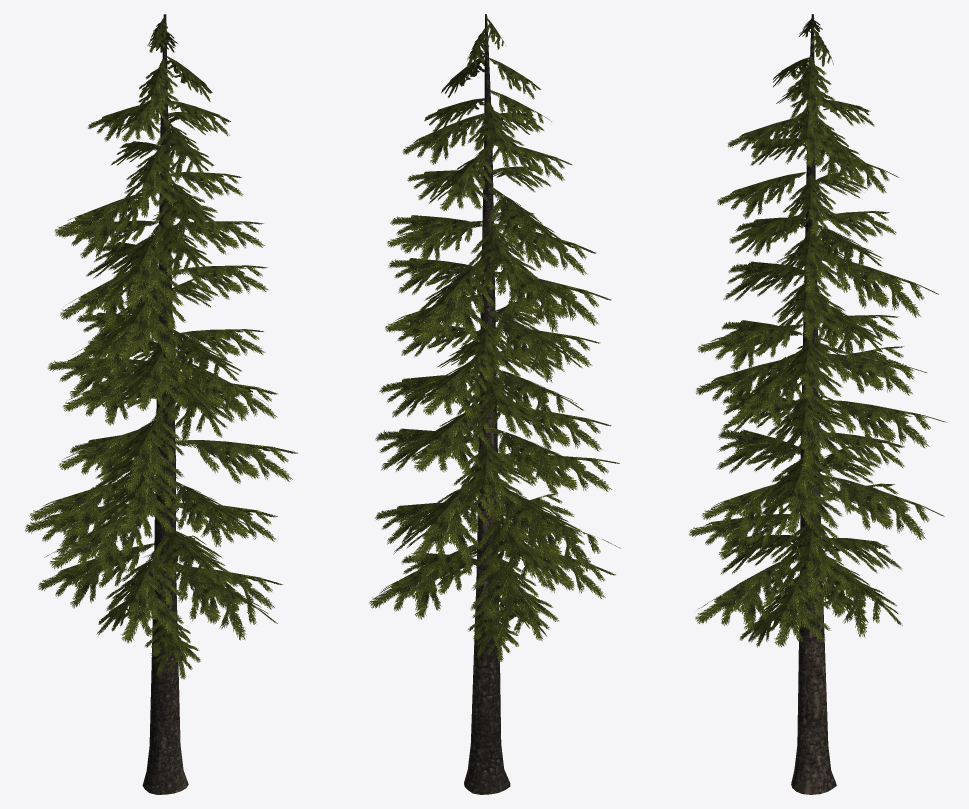
File: pine_tree_n_2.glb
3 views of the same model, side by side, from view 1: azimuth 30°, elevation 25°; view 2: azimuth 150°, elevation 25°; view 3: azimuth 270°, elevation 25° (orthographic).
Visible parts, largest first — view 1: pine_tree_n_2_branches, pine_tree_n_2; view 2: pine_tree_n_2_branches, pine_tree_n_2; view 3: pine_tree_n_2_branches, pine_tree_n_2.
Part boxes in pixels (bbox=[...]): pine_tree_n_2_branches: bbox=[25, 18, 297, 679]; pine_tree_n_2: bbox=[142, 14, 188, 794]; pine_tree_n_2_branches: bbox=[369, 18, 620, 661]; pine_tree_n_2: bbox=[464, 14, 510, 794]; pine_tree_n_2_branches: bbox=[689, 18, 946, 647]; pine_tree_n_2: bbox=[791, 14, 836, 794].
Bounding box in the file's own units: 3.66 × 10.11 × 3.36.
Materials: 2 (2 with a texture image).
